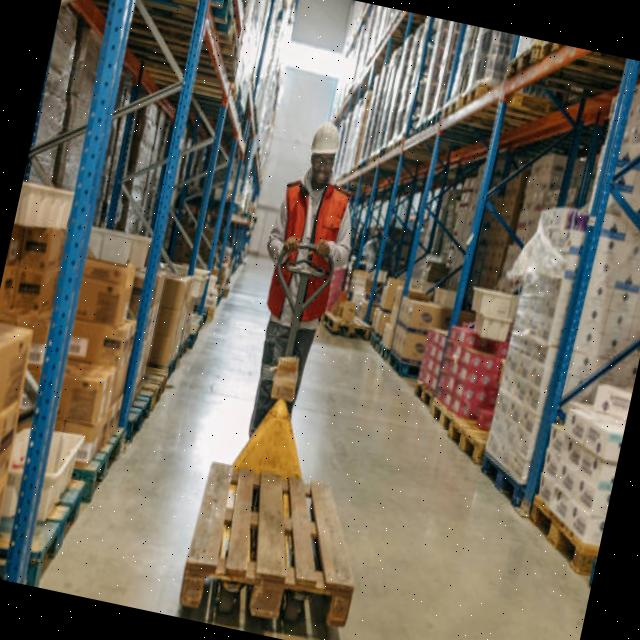Wooden-Pallets: (178, 460, 355, 625), (29, 471, 93, 585), (410, 376, 483, 470), (525, 489, 597, 584), (91, 417, 125, 496), (444, 415, 483, 473), (426, 388, 457, 442), (404, 369, 436, 419), (127, 393, 150, 446)
